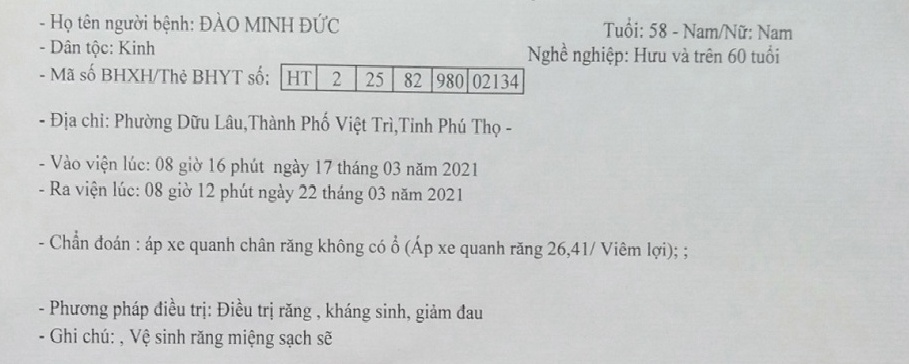add: (110, 106, 170, 132), (249, 108, 297, 134), (471, 115, 516, 138), (175, 110, 211, 137), (213, 109, 249, 135), (398, 112, 435, 134), (299, 109, 330, 132), (335, 111, 366, 134), (368, 112, 399, 135), (436, 113, 468, 134)
birth: (644, 19, 670, 42)
come_time: (439, 155, 480, 178), (336, 157, 378, 177), (226, 154, 266, 174), (271, 157, 311, 177), (403, 156, 436, 178), (150, 152, 178, 174), (176, 153, 204, 175), (206, 152, 227, 174), (380, 156, 402, 177), (313, 156, 332, 176)
diagnostic: (459, 235, 505, 259), (546, 238, 596, 257), (317, 235, 363, 255), (189, 235, 234, 254), (599, 238, 640, 258), (646, 240, 687, 260), (509, 236, 543, 258), (239, 235, 275, 253), (276, 237, 312, 255), (403, 235, 433, 256), (436, 235, 456, 256), (141, 234, 163, 253), (164, 235, 186, 254), (368, 234, 385, 255), (387, 232, 401, 255)
id: (278, 62, 528, 99)
job: (630, 45, 667, 68), (749, 43, 783, 68), (693, 45, 723, 68), (669, 44, 693, 69), (725, 45, 749, 68)
name: (241, 11, 298, 38), (298, 11, 346, 38), (196, 9, 240, 38)
nation: (117, 36, 159, 59)
note: (226, 325, 277, 349), (276, 326, 316, 348), (154, 326, 189, 348), (188, 326, 223, 348), (127, 328, 153, 351), (311, 327, 336, 349)
out_time: (321, 180, 363, 204), (257, 182, 293, 203), (426, 182, 464, 201), (218, 181, 252, 201), (390, 182, 422, 203), (166, 180, 192, 201), (142, 179, 165, 200), (296, 180, 317, 202), (366, 181, 388, 202), (196, 179, 216, 199)
sex: (756, 19, 798, 43)
solution: (325, 298, 369, 321), (215, 295, 253, 320), (372, 298, 411, 322), (413, 298, 452, 322), (277, 297, 311, 321), (455, 298, 484, 322), (254, 295, 277, 320), (311, 297, 326, 321)
